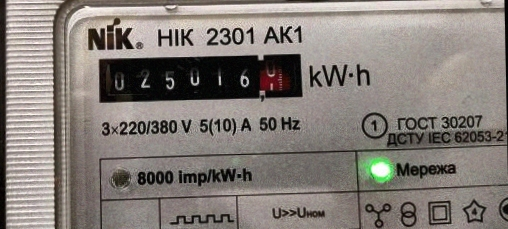0: (188, 63, 202, 87), (112, 69, 125, 91), (264, 57, 276, 77)
1: (213, 62, 224, 87), (266, 80, 274, 91)
2: (138, 65, 151, 88)
5: (163, 68, 174, 89)
6: (237, 64, 250, 90)
screen: (88, 43, 312, 108)
